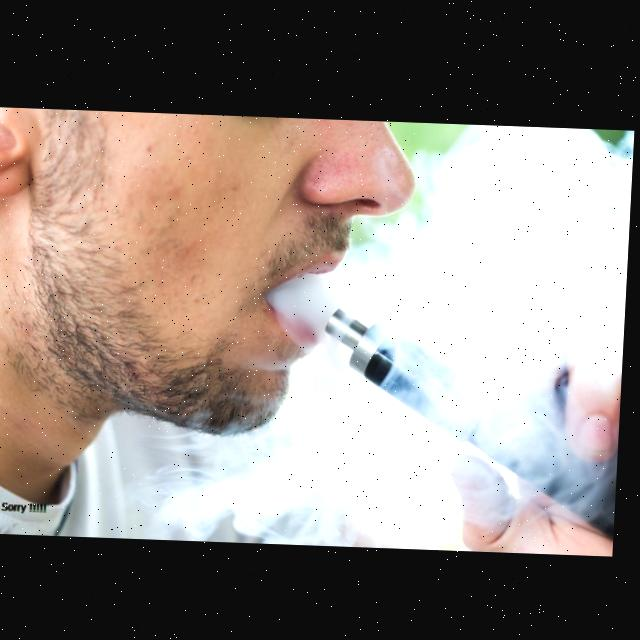vape: (321, 306, 628, 532)
